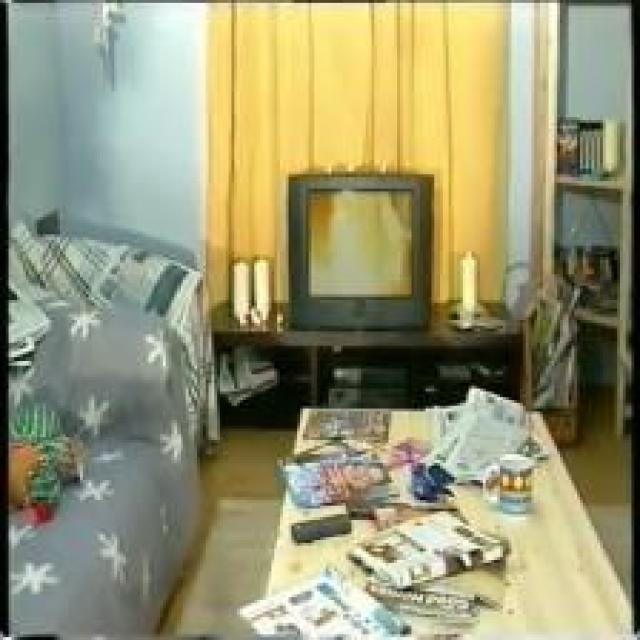other: (235, 20, 481, 144)
